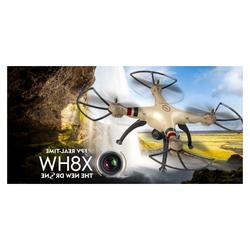drone: (76, 69, 244, 171)
